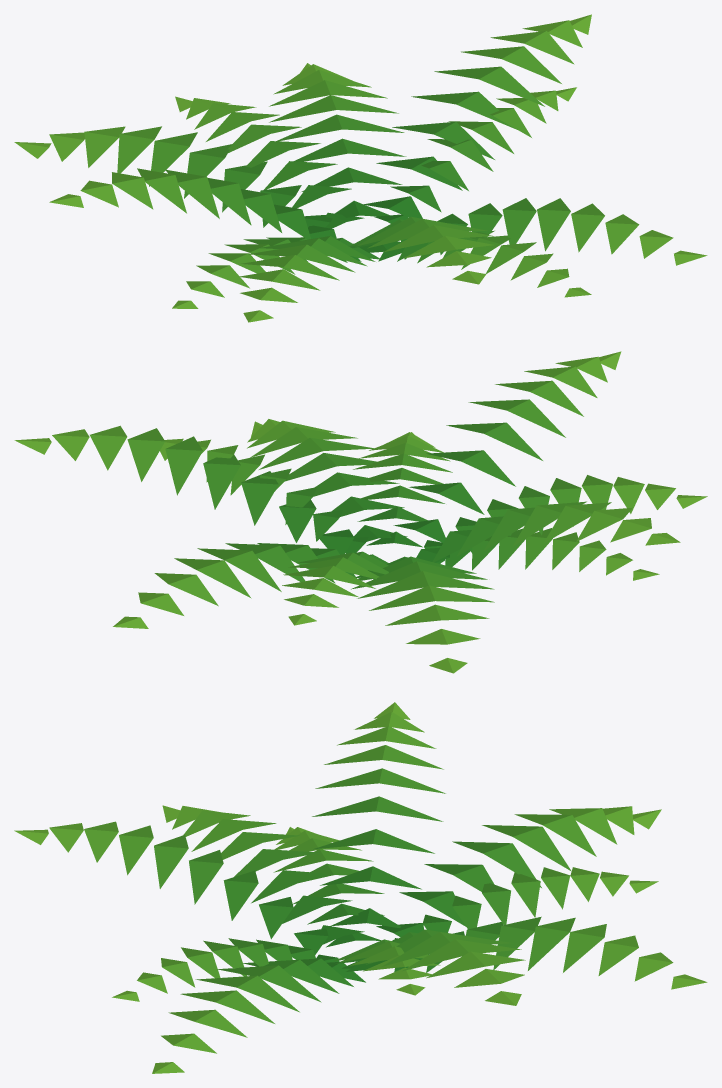
File: fern_a.glb
The picture shows the model from 3 angles, top to bottom: view 1: azimuth 30°, elevation 25°; view 2: azimuth 150°, elevation 25°; view 3: azimuth 270°, elevation 25°; orthographic projection. The views are drawn at different scales.
Parts seen in each view (by area): view 1: fern_a; view 2: fern_a; view 3: fern_a.
Boxes of the visible parts, x1,y1,x2,y2 form: fern_a: (14,14,707,322); fern_a: (14,351,707,673); fern_a: (14,702,707,1073).
Bounding box in the file's own units: 1.21 × 0.211 × 1.17.
